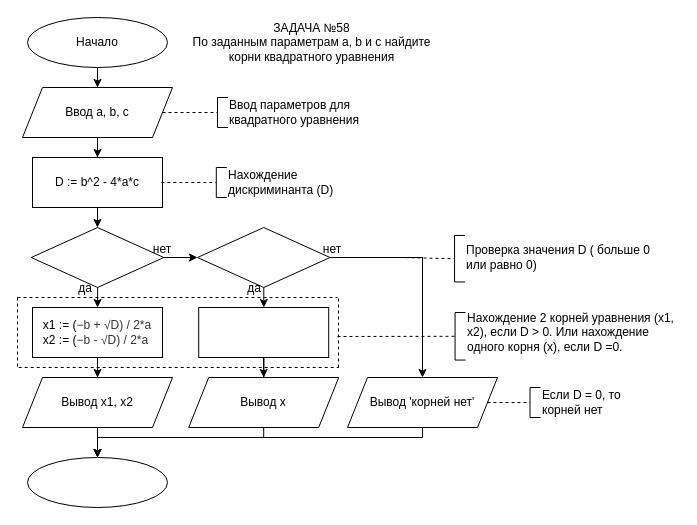
The diagram is 697 pixels wide and 525 high, and some of its shapes have lost their labels. Each missing label, with the box of its shape:
D = 0: (196, 226, 330, 288)
D > 0: (30, 226, 164, 288)
x := −b / 2*a: (198, 306, 329, 358)
Конец: (26, 456, 168, 508)
